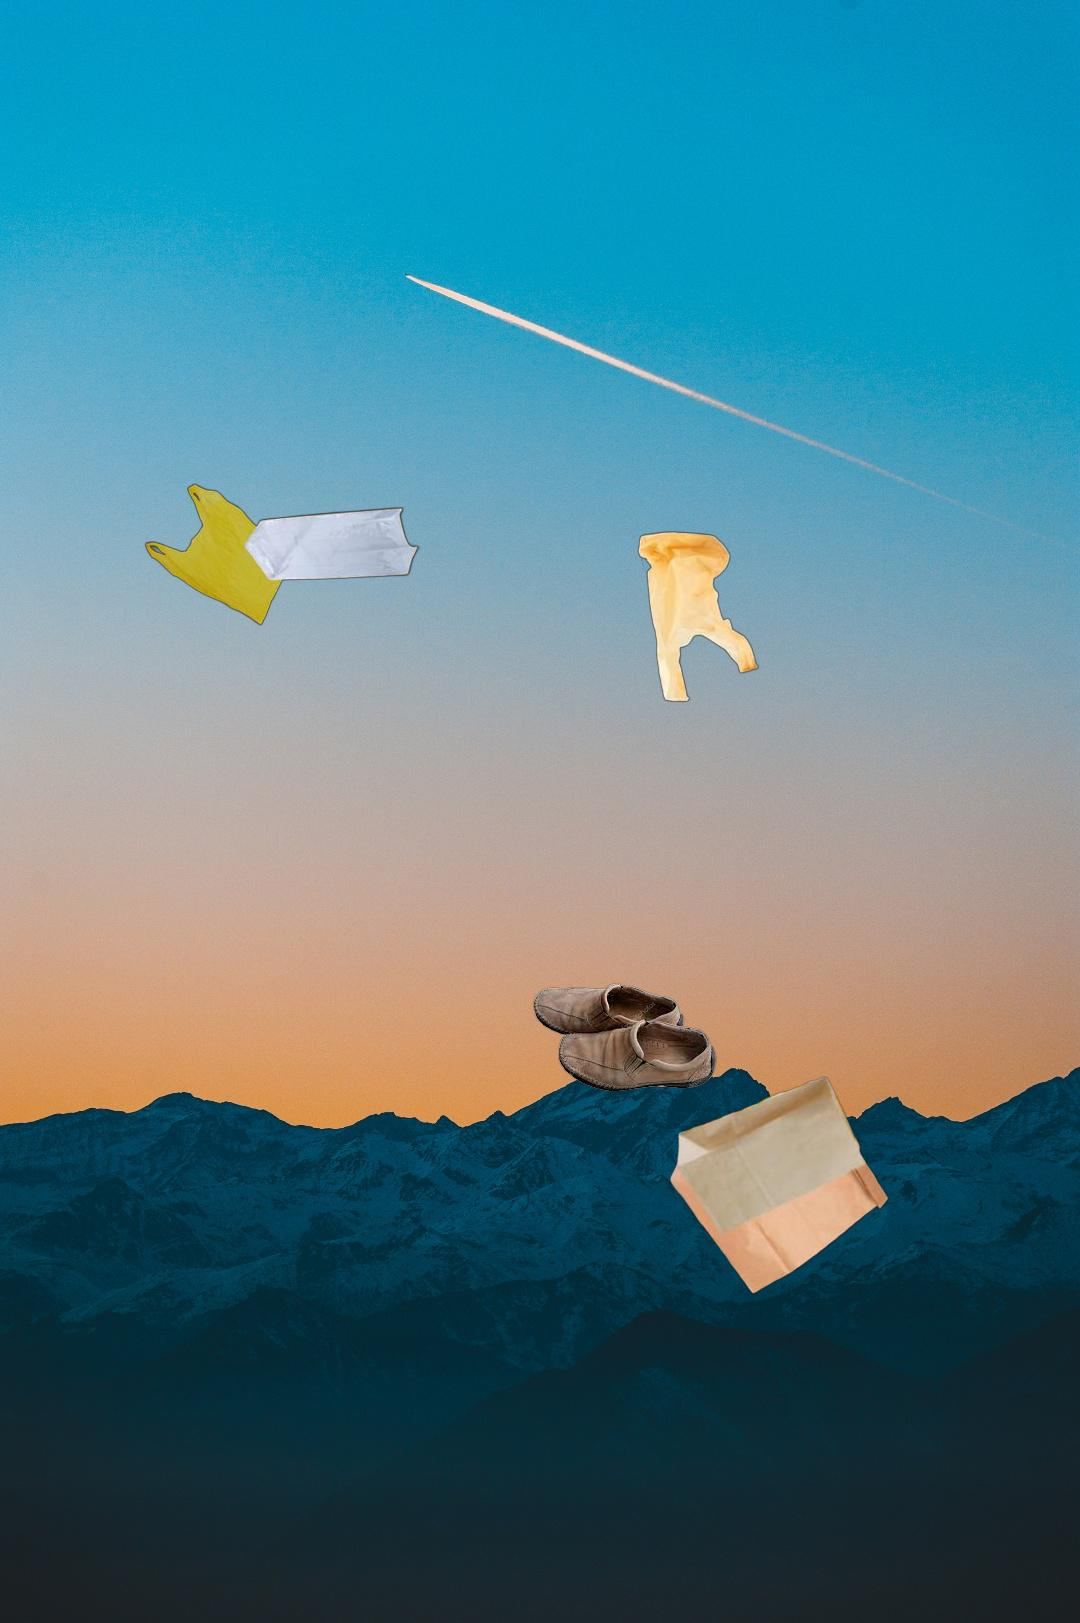paper-bag: (667, 1076, 890, 1295)
plastic-bag: (142, 481, 423, 628), (635, 529, 762, 705)
shoes: (532, 981, 720, 1094)
trashbox-cardboard: (938, 1574, 1080, 1623)
